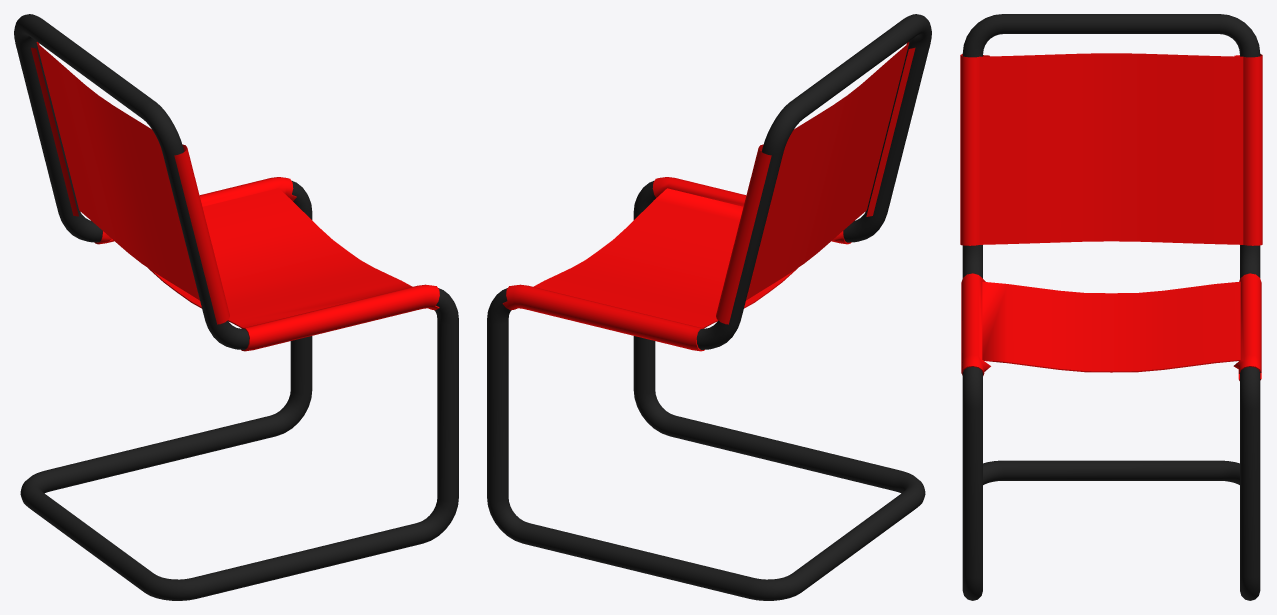
The model's file is chair_fbx.FBX.
The picture shows the model from 3 angles, left to right: view 1: azimuth 30°, elevation 25°; view 2: azimuth 150°, elevation 25°; view 3: azimuth 270°, elevation 25°; orthographic projection. The views are drawn at different scales.
Visible parts, largest first — view 1: Line001, sidenie, spinka; view 2: Line001, sidenie, spinka; view 3: spinka, sidenie, Line001.
Boxes of the visible parts, x1,y1,x2,y2 form: Line001: (14,14,458,600); sidenie: (94,177,439,351); spinka: (31,42,229,324); Line001: (487,14,931,600); sidenie: (502,177,851,351); spinka: (716,42,915,324); spinka: (960,53,1262,245); sidenie: (961,273,1261,380); Line001: (962,14,1260,600).
Size of what is drawn, in the model's own units: 2.1 by 3.28 by 1.93.
